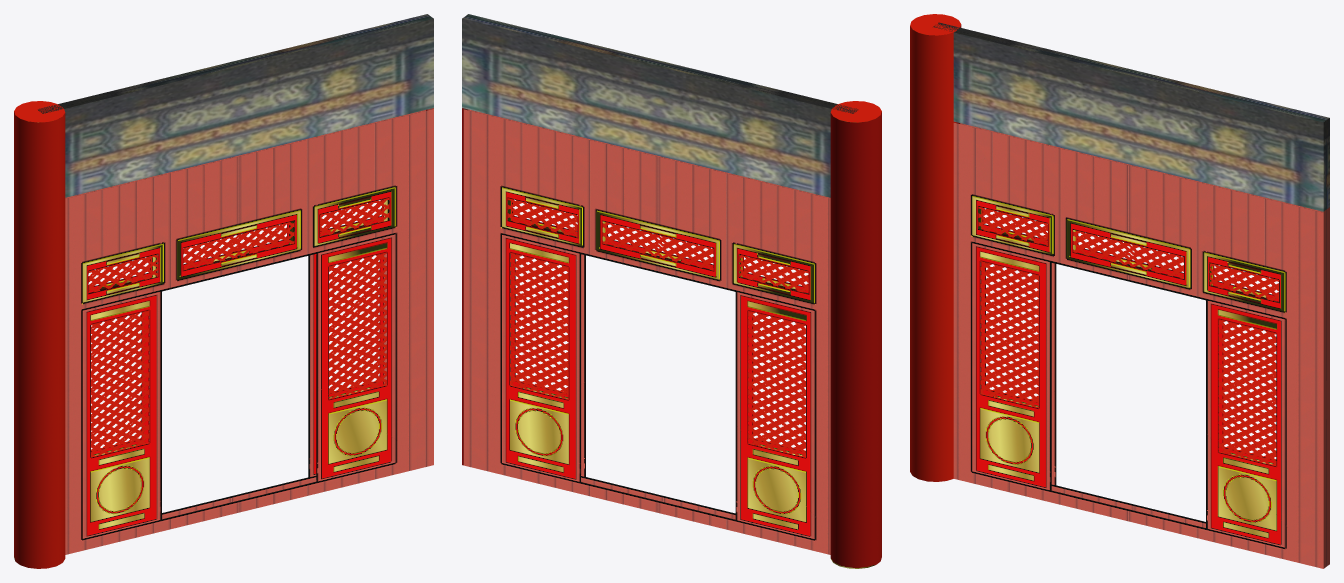
The model's file is door.dae.
The picture shows the model from 3 angles, left to right: view 1: azimuth 30°, elevation 25°; view 2: azimuth 150°, elevation 25°; view 3: azimuth 330°, elevation 25°; orthographic projection.
Parts seen in each view (by area): view 1: MainNode; view 2: MainNode; view 3: MainNode.
Boxes of the visible parts, x1,y1,x2,y2 form: MainNode: [14, 14, 433, 568]; MainNode: [462, 14, 881, 568]; MainNode: [910, 14, 1329, 568].
Size of the model in its own units: 4.65 by 4.8 by 0.4904.
Materials: 1 (1 with a texture image).
